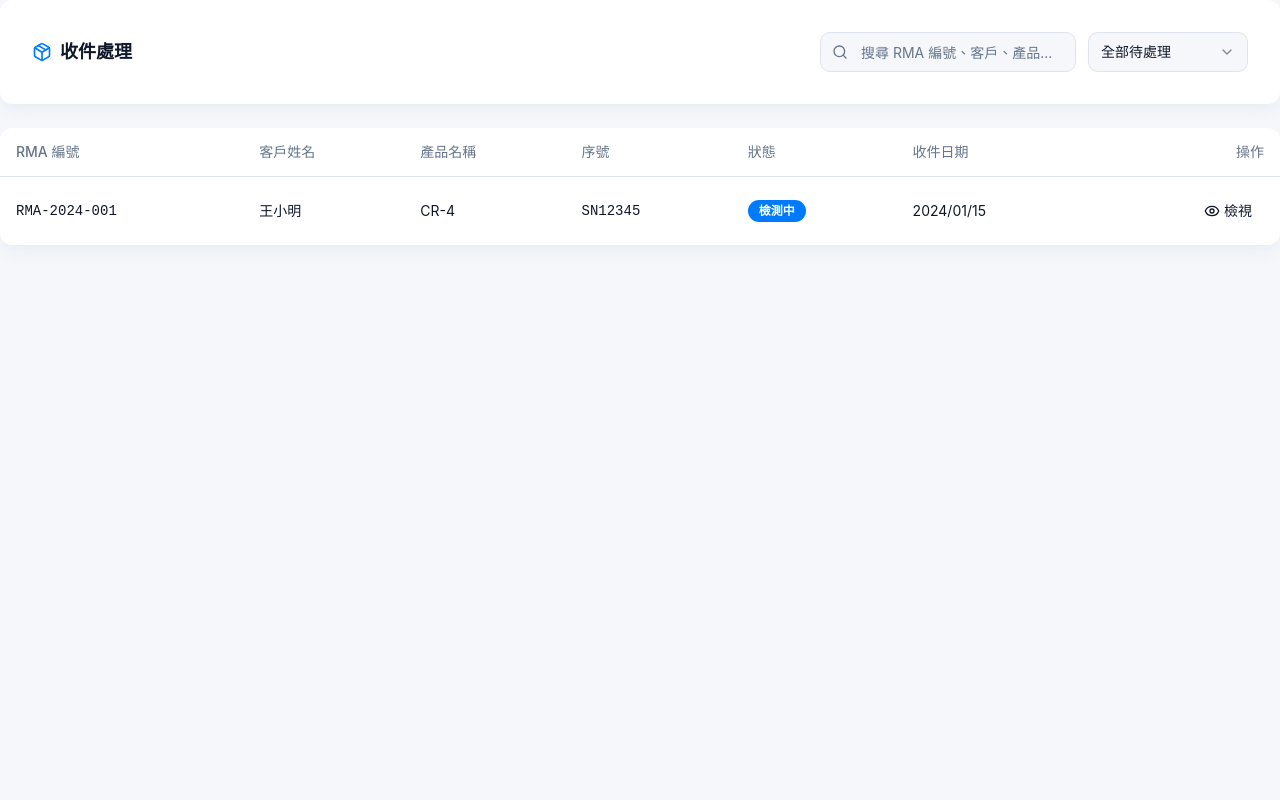
Test case: ReceivingTab - Phase 1 診斷欄位 › 點擊「檢視」後開啟對話框，顯示診斷分類和實際處理方式欄位
Step 1. Click the button "檢視" → [1228, 210], box [1192,192,1264,228]
(page scrolled)
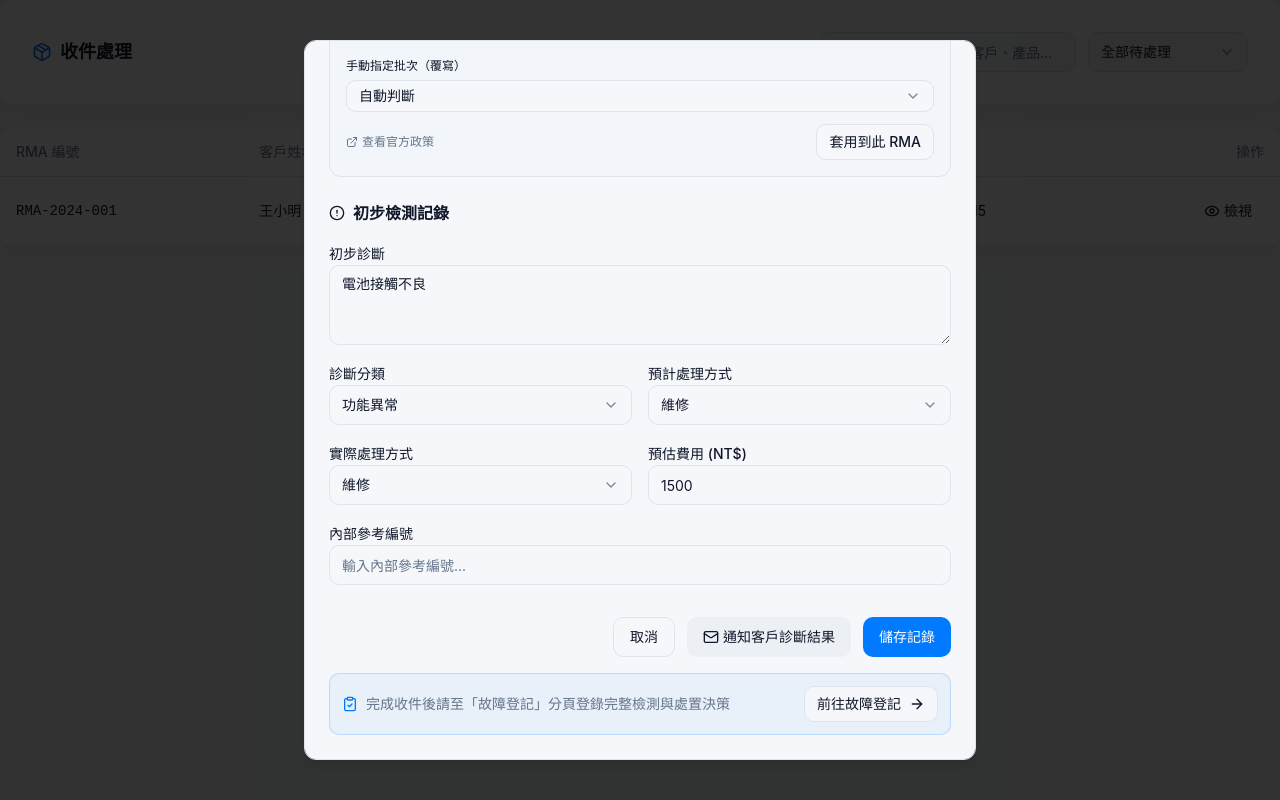
Expected: the text "診斷分類" is shown, [329,365,385,382]
Expected: the text "實際處理方式" is shown, [329,445,413,462]
